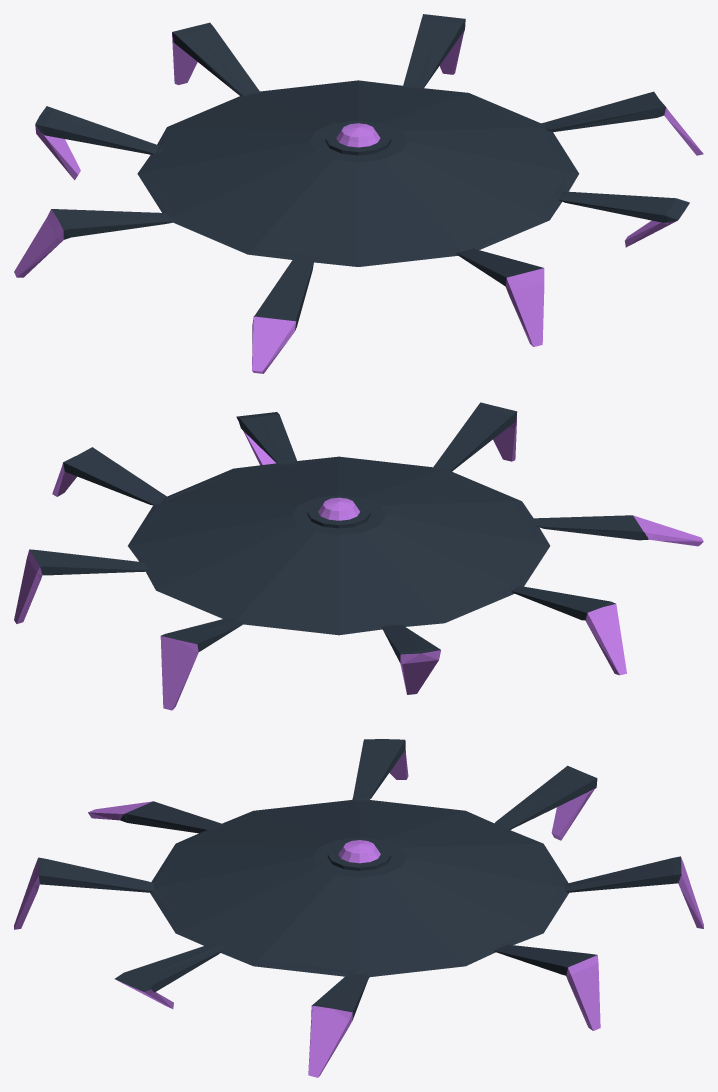
Rendered from Spider_Walk_000006.obj.
3 renders of one model, top to bottom at view 1: azimuth 30°, elevation 25°; view 2: azimuth 150°, elevation 25°; view 3: azimuth 270°, elevation 25°, orthographic. The views are drawn at different scales.
Visible parts, largest first — view 1: Circle_Circle.001; view 2: Circle_Circle.001; view 3: Circle_Circle.001.
Part boxes in pixels (left/top/right/bottom): Circle_Circle.001: left=14, top=14, right=703, bottom=373; Circle_Circle.001: left=14, top=402, right=703, bottom=710; Circle_Circle.001: left=14, top=739, right=703, bottom=1077.
Bounding box in the file's own units: 3.36 × 0.4398 × 3.25.
